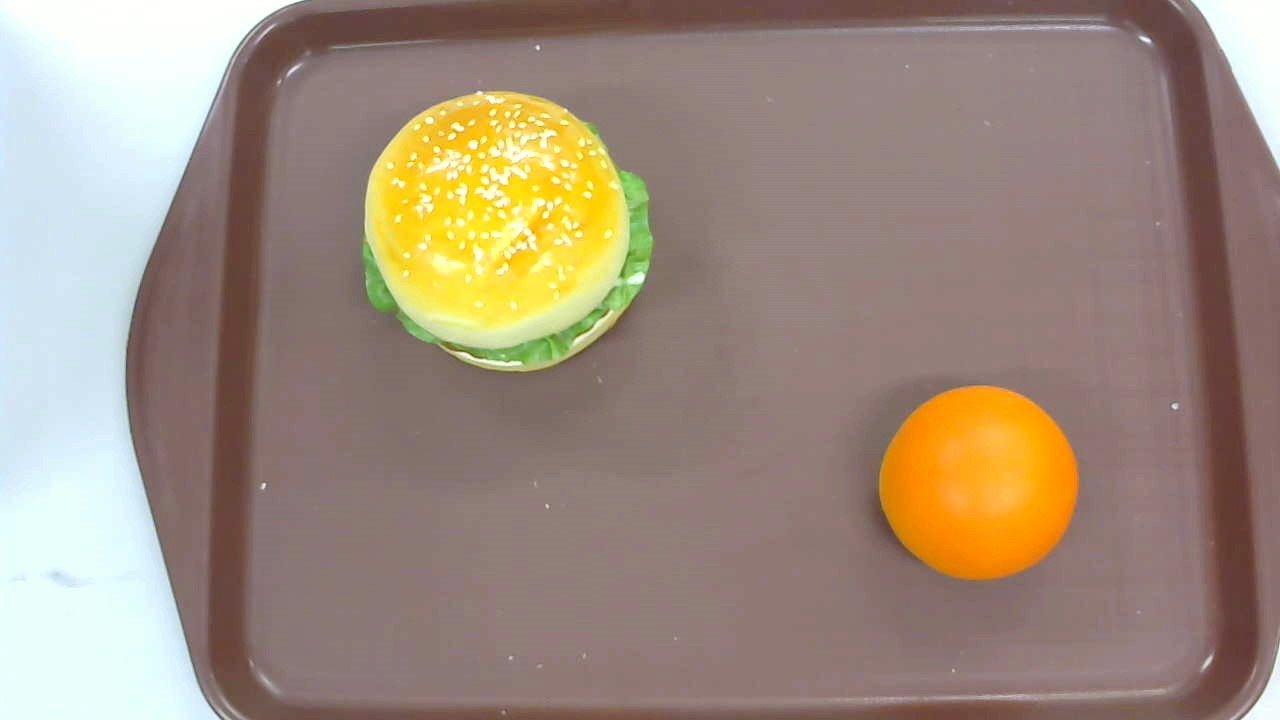bun: (879, 384, 1078, 582)
hamburger: (361, 87, 655, 374)
